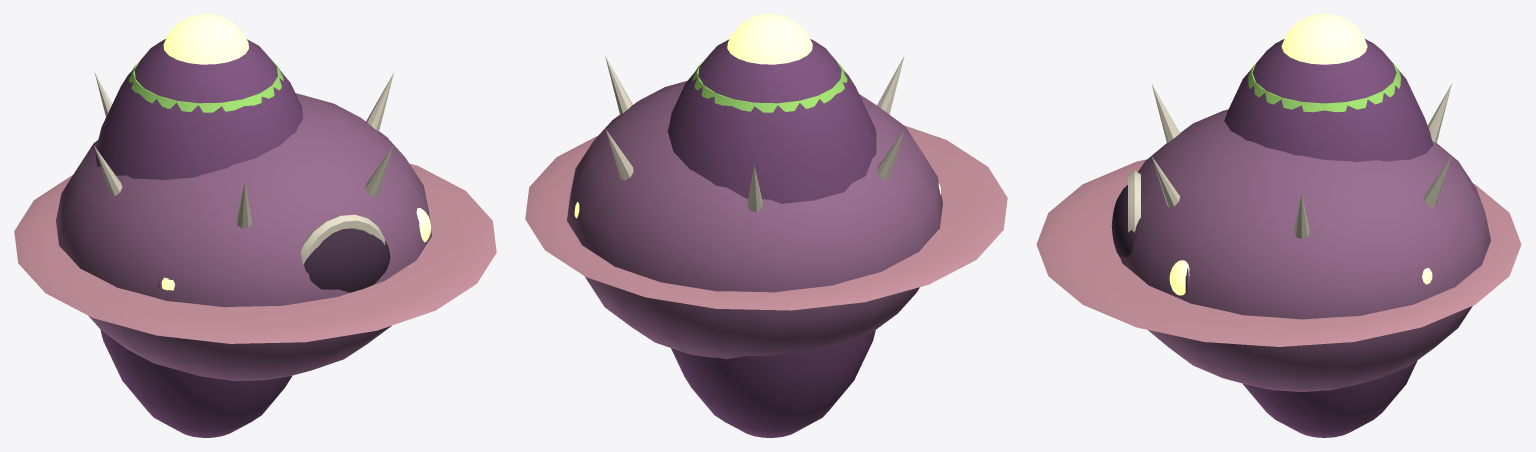
Rendered from cy_ins.glb.
3 views of the same model, side by side, from view 1: azimuth 30°, elevation 25°; view 2: azimuth 150°, elevation 25°; view 3: azimuth 270°, elevation 25° (orthographic).
Visible parts, largest first — view 1: cy_ins; view 2: cy_ins; view 3: cy_ins.
Part boxes in pixels (x1=…): cy_ins: x1=14, y1=14, x2=496, y2=437; cy_ins: x1=525, y1=14, x2=1007, y2=437; cy_ins: x1=1036, y1=14, x2=1521, y2=437.
Size of the model in its own units: 3.19 by 3 by 3.19.
